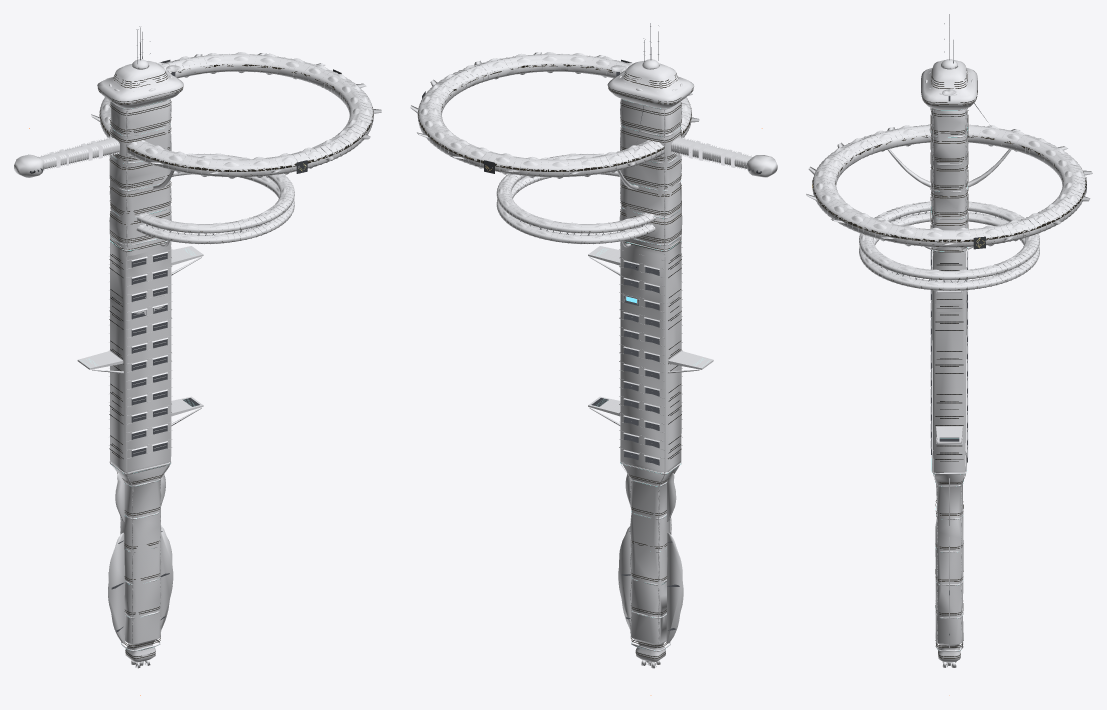
File: Station-loin.glb
3 views of the same model, side by side, from view 1: azimuth 30°, elevation 25°; view 2: azimuth 150°, elevation 25°; view 3: azimuth 270°, elevation 25° (orthographic).
Visible parts, largest first — view 1: Etages hangars - Coque, Anneau haut - Coque, Tour basse - Coque, Tour haute - Coque, Anneau bas - Coque, Tete - Coque, Etages hangars - Sombre, Bras - Coque, Tour haute - Hublots, Anneau haut - Hublots, Queue - Coque; view 2: Etages hangars - Coque, Anneau haut - Coque, Tour basse - Coque, Tour haute - Coque, Anneau bas - Coque, Tete - Coque, Etages hangars - Sombre, Bras - Coque, Tour haute - Hublots, Anneau haut - Hublots, Queue - Coque; view 3: Anneau haut - Coque, Etages hangars - Coque, Anneau bas - Coque, Tour basse - Coque, Tour haute - Coque, Tete - Coque, Tour haute - Hublots, Anneau haut - Hublots, Etages hangars - Hublots, Queue - Coque, Etages hangars - Sombre.
Boxes of the visible parts, left/top/right/bottom form: Etages hangars - Coque: left=77, top=239, right=203, bottom=474; Anneau haut - Coque: left=91, top=52, right=381, bottom=189; Tour basse - Coque: left=108, top=460, right=173, bottom=651; Tour haute - Coque: left=109, top=99, right=171, bottom=256; Anneau bas - Coque: left=137, top=153, right=294, bottom=247; Tete - Coque: left=97, top=59, right=183, bottom=108; Etages hangars - Sombre: left=131, top=253, right=199, bottom=457; Bras - Coque: left=14, top=136, right=119, bottom=177; Tour haute - Hublots: left=109, top=100, right=171, bottom=251; Anneau haut - Hublots: left=99, top=64, right=373, bottom=176; Queue - Coque: left=125, top=637, right=159, bottom=668; Etages hangars - Coque: left=588, top=239, right=713, bottom=474; Anneau haut - Coque: left=410, top=52, right=699, bottom=189; Tour basse - Coque: left=618, top=461, right=683, bottom=651; Tour haute - Coque: left=619, top=99, right=682, bottom=256; Anneau bas - Coque: left=496, top=153, right=656, bottom=247; Tete - Coque: left=607, top=59, right=693, bottom=108; Etages hangars - Sombre: left=591, top=262, right=659, bottom=465; Bras - Coque: left=671, top=137, right=777, bottom=177; Tour haute - Hublots: left=620, top=100, right=681, bottom=251; Anneau haut - Hublots: left=418, top=64, right=691, bottom=176; Queue - Coque: left=633, top=638, right=666, bottom=668; Anneau haut - Coque: left=806, top=124, right=1092, bottom=248; Etages hangars - Coque: left=930, top=247, right=968, bottom=474; Anneau bas - Coque: left=859, top=201, right=1039, bottom=290; Tour basse - Coque: left=932, top=452, right=966, bottom=651; Tour haute - Coque: left=931, top=108, right=968, bottom=256; Tete - Coque: left=921, top=59, right=977, bottom=109; Tour haute - Hublots: left=930, top=108, right=968, bottom=252; Anneau haut - Hublots: left=812, top=135, right=1086, bottom=246; Etages hangars - Hublots: left=935, top=263, right=963, bottom=461; Queue - Coque: left=935, top=633, right=963, bottom=667; Etages hangars - Sombre: left=931, top=249, right=967, bottom=462.
Size of the model in its own units: 2516 by 4749 by 1810.
Materials: 8 (2 with a texture image).
